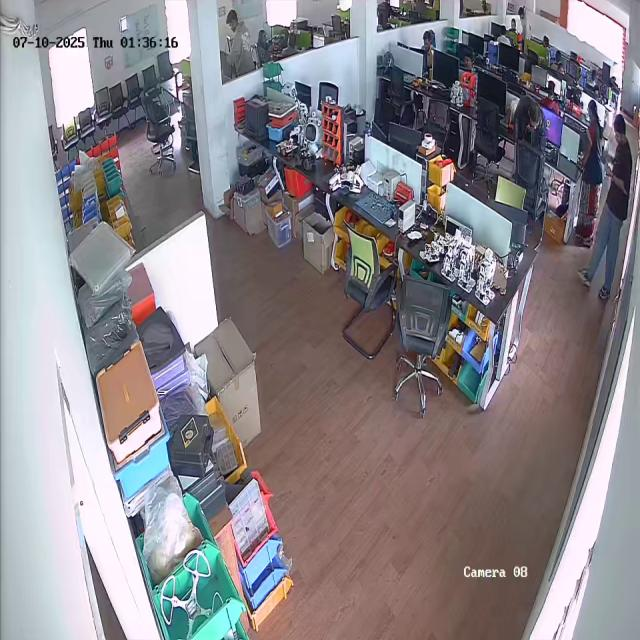person: (595, 113, 635, 298), (578, 98, 602, 242)
